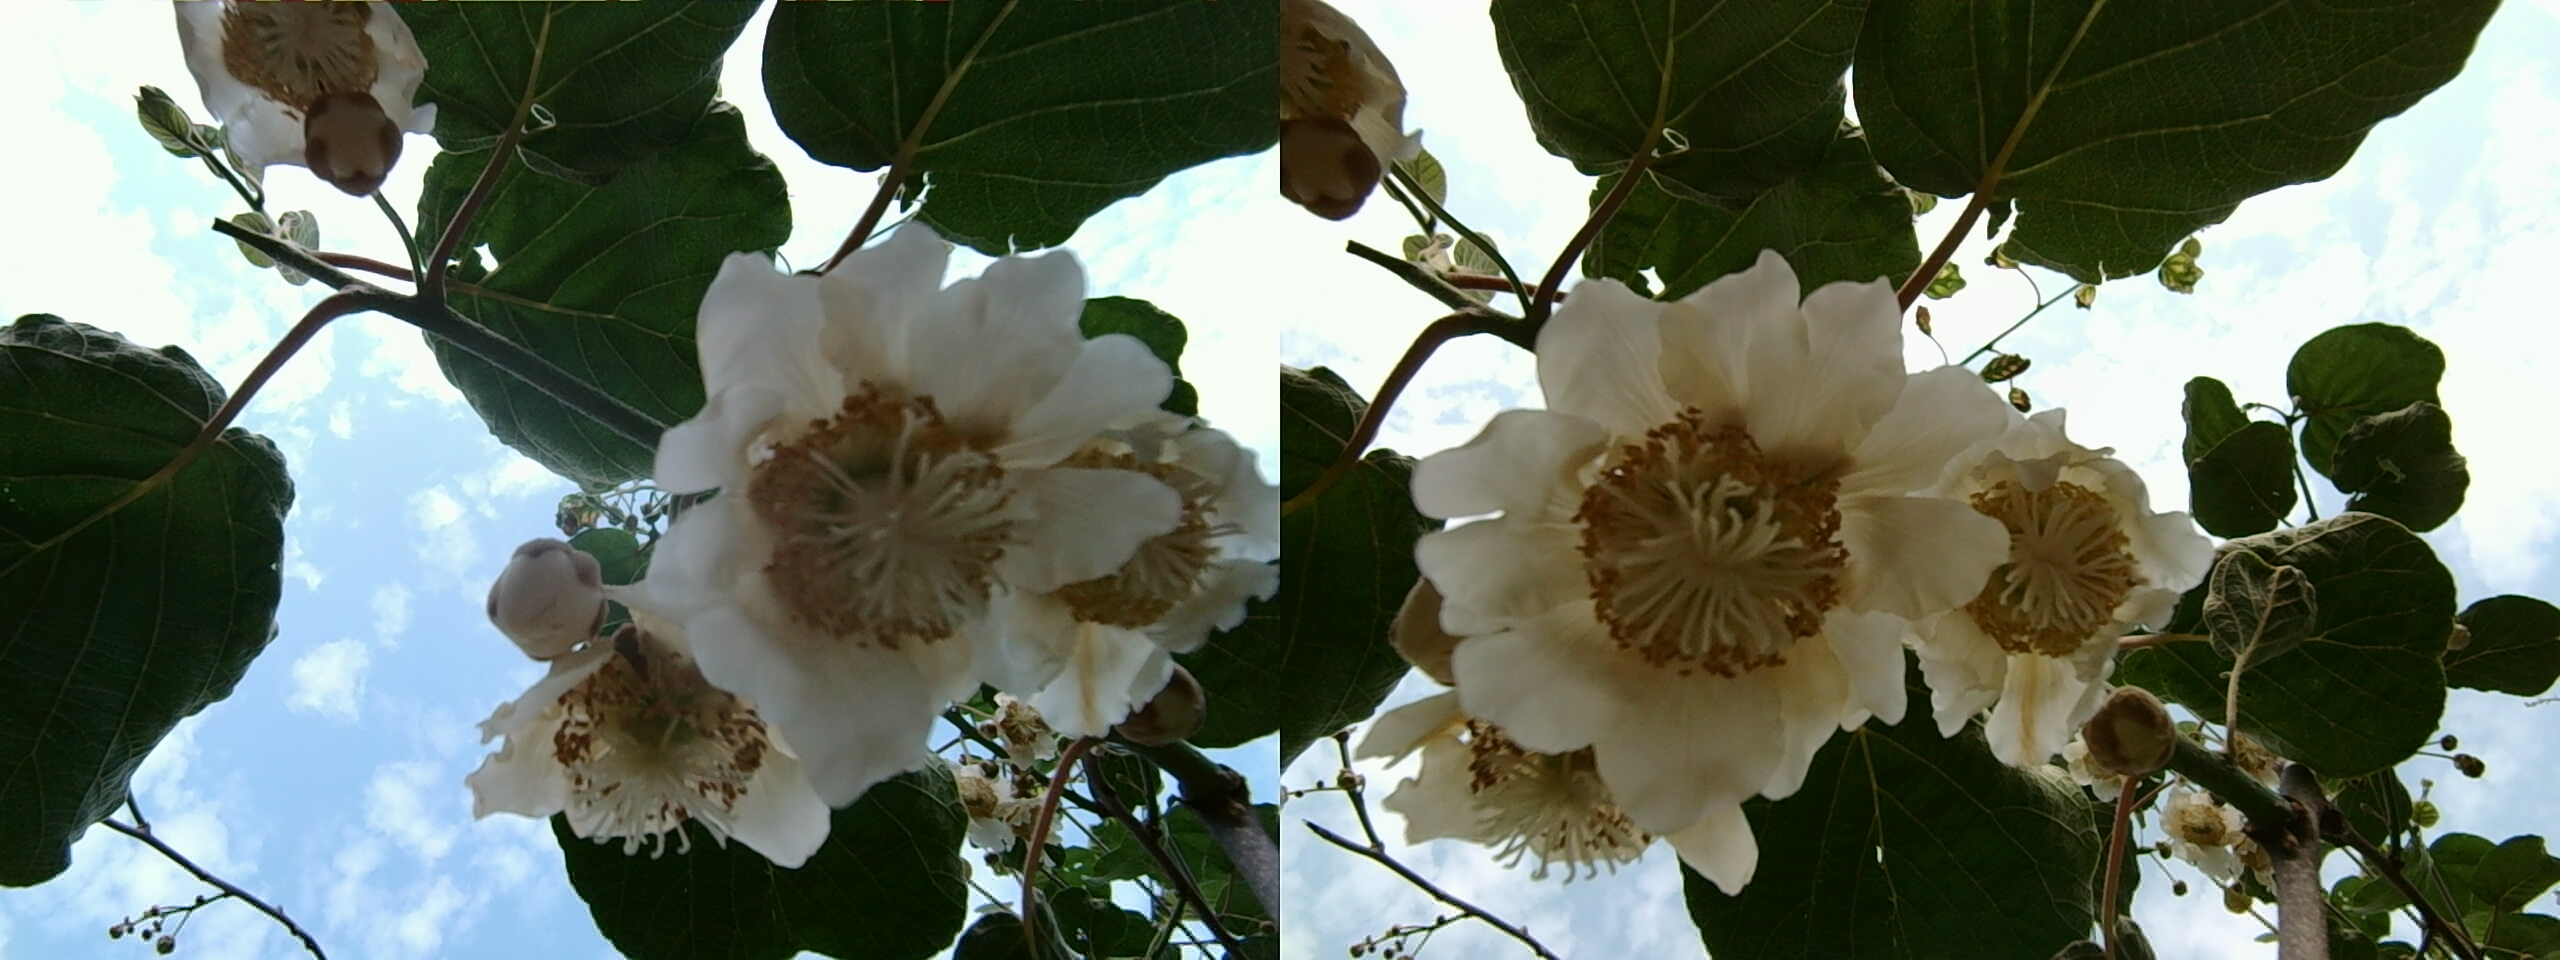flower: (679, 286, 1166, 754), (456, 601, 841, 870), (1523, 397, 1876, 691), (1882, 413, 2209, 694), (1383, 692, 1709, 901), (1007, 408, 1272, 647), (181, 0, 441, 180), (480, 536, 629, 661)
